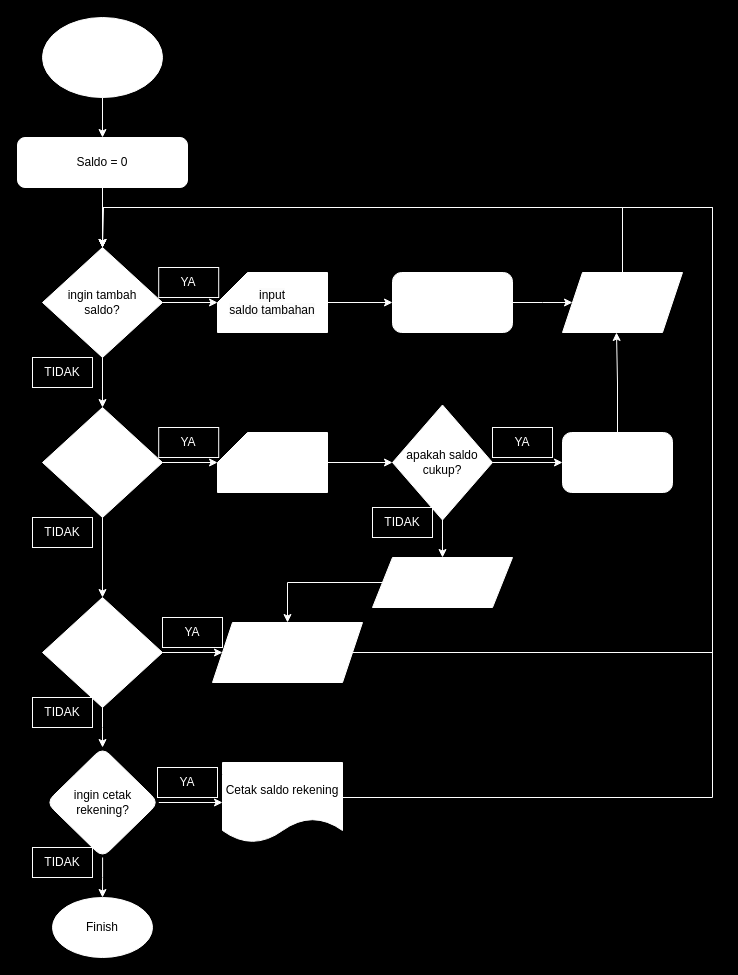
Some shapes in this 738 by 975 pixel diagram are drawn without their labels. The centre of each missing label's shape, as x and y in pixels:
ingin cek saldo?: the point at 102,652
ingin kurangi saldo?: the point at 102,462
input kurangi saldo: the point at 272,462
output 'Saldo tidak cukup!': the point at 442,582
output Menampilkan jumlah saldo sekarang: the point at 287,652
output Menampilkan saldo baru: the point at 622,302
saldo += tambahSaldo: the point at 452,302
saldo -= kurangiSaldo: the point at 617,462
Start: the point at 102,57
